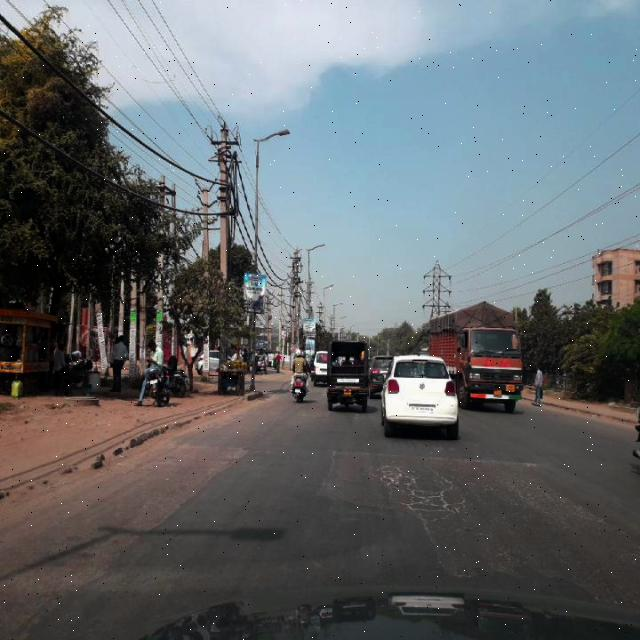D00: (412, 515, 482, 584)
D20: (371, 458, 476, 525), (508, 457, 585, 512)
